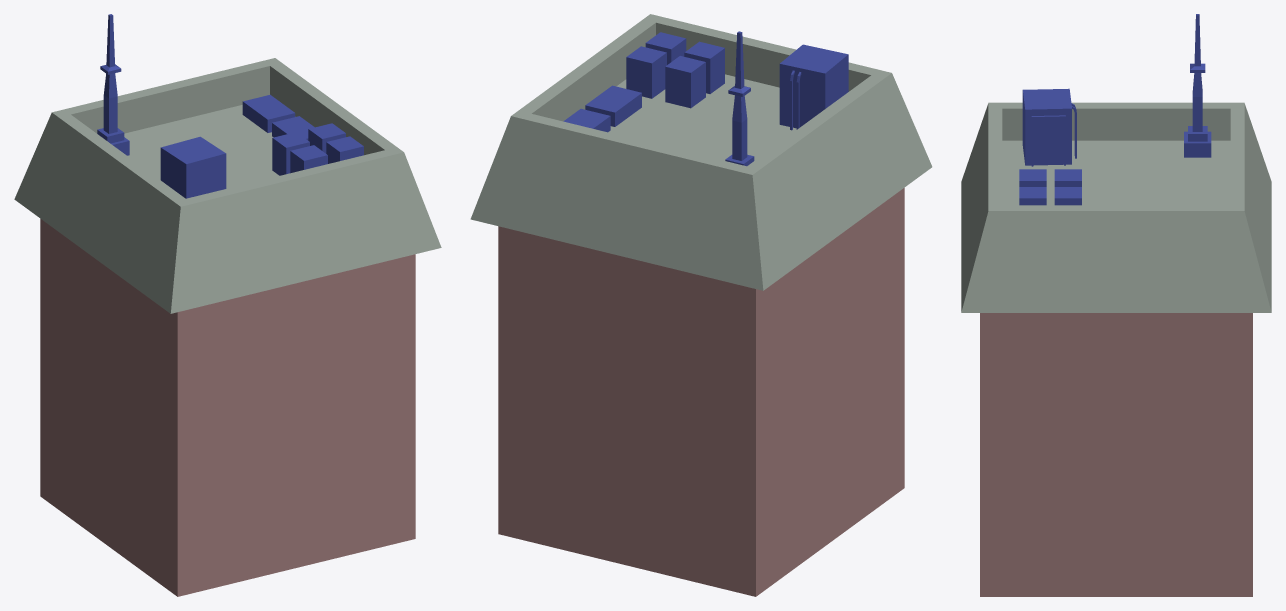
Rendered from Building_A3.fbx.
The picture shows the model from 3 angles, left to right: view 1: azimuth 30°, elevation 25°; view 2: azimuth 150°, elevation 25°; view 3: azimuth 270°, elevation 25°; orthographic projection. The views are drawn at different scales.
Parts seen in each view (by area): view 1: BuildingA10; view 2: BuildingA10; view 3: BuildingA10.
Boxes of the visible parts, bbox=[...] form: BuildingA10: bbox=[14, 14, 441, 596]; BuildingA10: bbox=[470, 14, 932, 596]; BuildingA10: bbox=[961, 14, 1271, 596].
Size of the model in its own units: 6.85 by 11.87 by 6.85.
